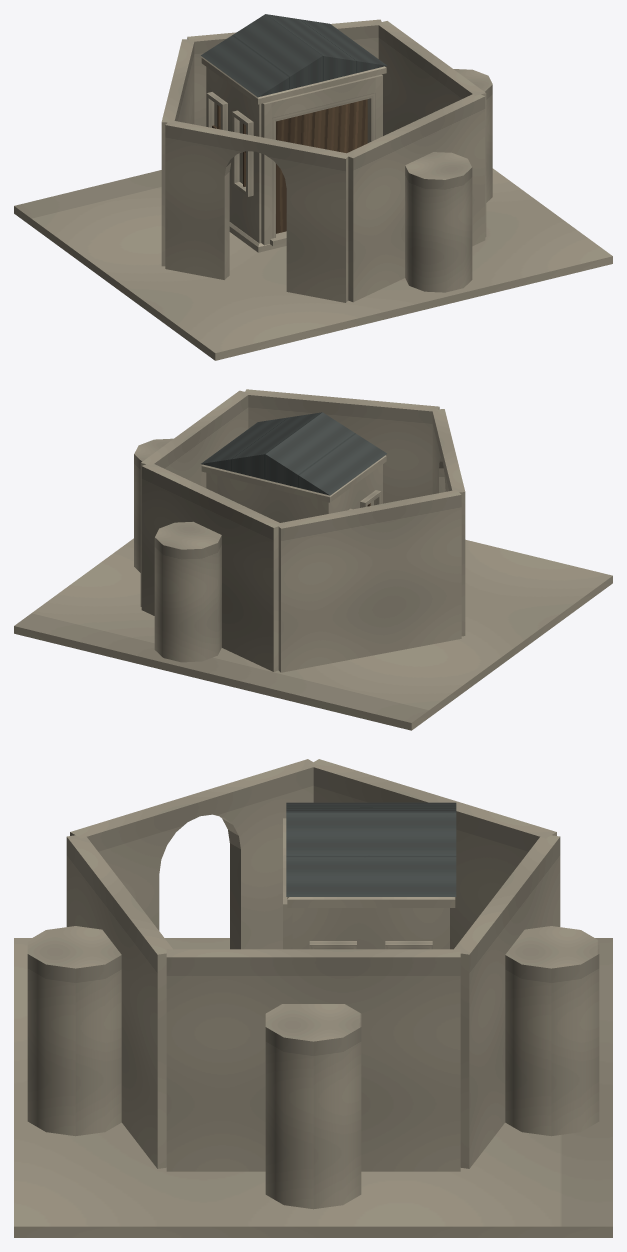
File: paramaribo.glb
3 renders of one model, top to bottom at view 1: azimuth 30°, elevation 25°; view 2: azimuth 150°, elevation 25°; view 3: azimuth 270°, elevation 25°, orthographic. The views are drawn at different scales.
Parts seen in each view (by area): view 1: paramaribo; view 2: paramaribo; view 3: paramaribo.
Part boxes in pixels (bbox=[...]): paramaribo: bbox=[14, 14, 612, 360]; paramaribo: bbox=[14, 389, 612, 730]; paramaribo: bbox=[14, 759, 612, 1237].
Bounding box in the file's own units: 6.5 × 2.96 × 5.7.
1 material, 1 textured.
